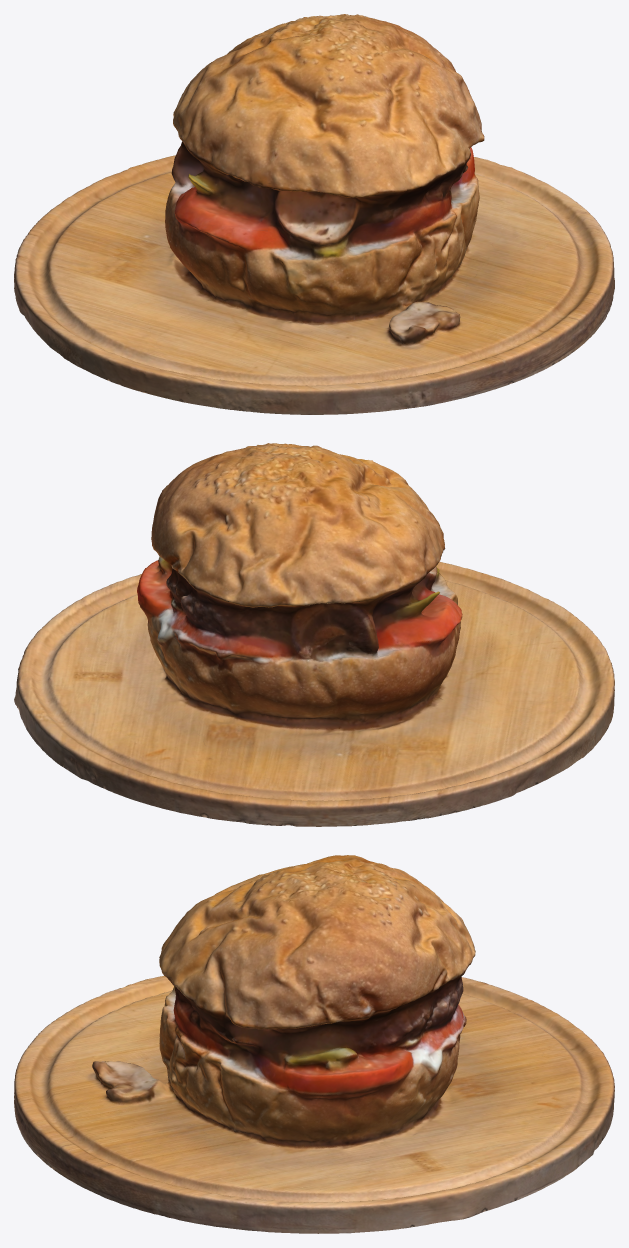
File: Burger.glb
The picture shows the model from 3 angles, top to bottom: view 1: azimuth 30°, elevation 25°; view 2: azimuth 150°, elevation 25°; view 3: azimuth 270°, elevation 25°; orthographic projection.
Visible parts, largest first — view 1: 3DModel; view 2: 3DModel; view 3: 3DModel.
Part boxes in pixels (x1,y1,x2,y2): 3DModel: (14,14,614,414); 3DModel: (14,443,614,826); 3DModel: (14,855,614,1233).
Size of the model in its own units: 0.3315 by 0.15 by 0.3315.
1 material, 1 textured.
